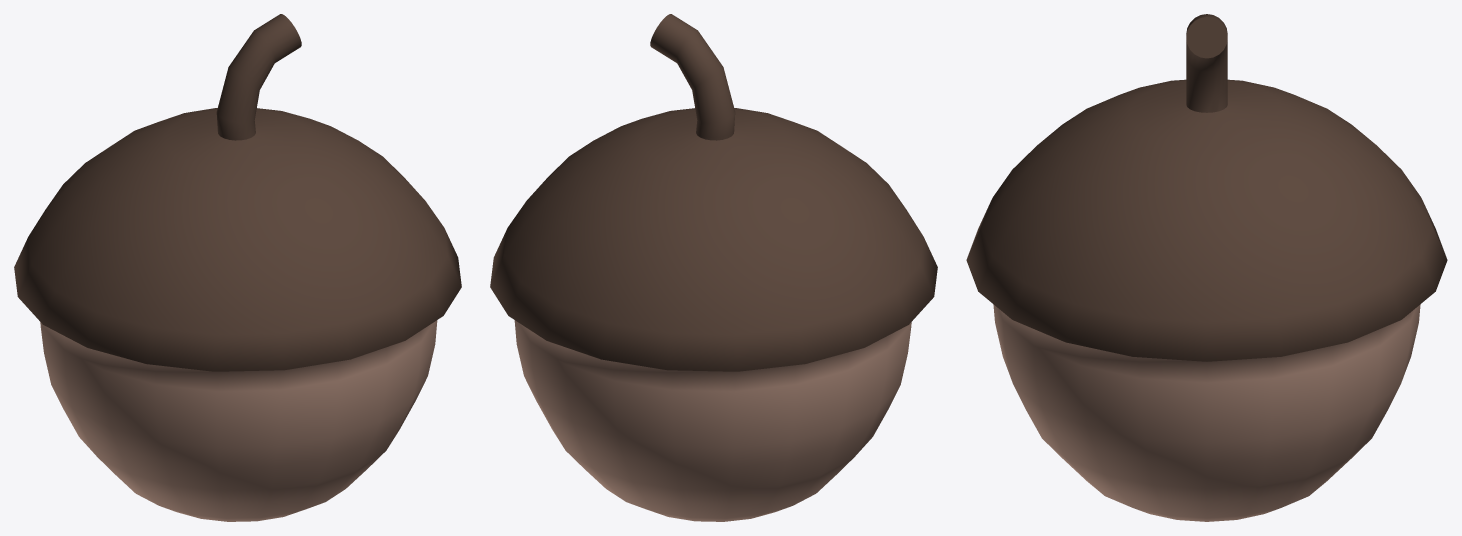
The model's file is SQ_Object_Acorn.fbx.
3 renders of one model, left to right at view 1: azimuth 30°, elevation 25°; view 2: azimuth 150°, elevation 25°; view 3: azimuth 270°, elevation 25°, orthographic. The views are drawn at different scales.
Visible parts, largest first — view 1: pSphere1, pCylinder1; view 2: pSphere1, pCylinder1; view 3: pSphere1, pCylinder1.
Part boxes in pixels (x1,y1,x2,y2): pSphere1: (14,108,461,521); pCylinder1: (216,14,301,140); pSphere1: (490,108,937,521); pCylinder1: (650,14,735,140); pSphere1: (966,79,1447,521); pCylinder1: (1186,14,1227,112).
Bounding box in the file's own units: 2.24 × 2.69 × 2.24.
